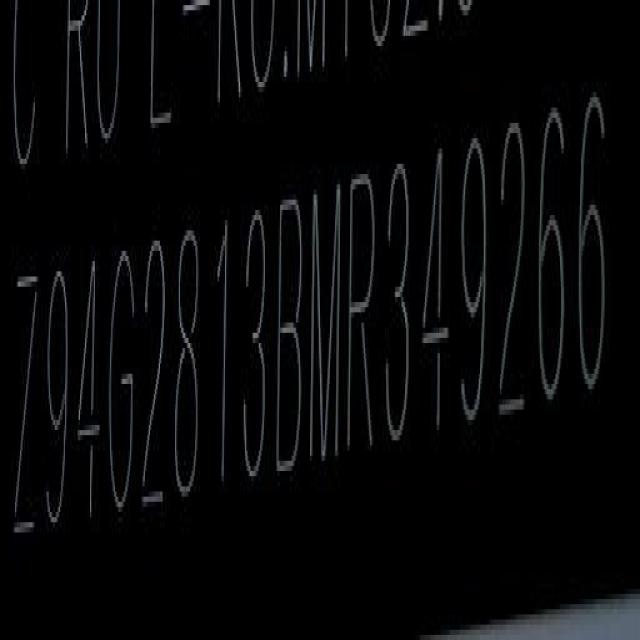1: (215, 208, 232, 497)
2: (496, 108, 528, 421), (142, 237, 168, 521)
3: (242, 201, 268, 482), (386, 154, 410, 446)
4: (421, 142, 448, 438), (74, 258, 103, 525)
6: (574, 91, 609, 402), (537, 98, 569, 404)
8: (172, 216, 205, 506)
9: (460, 125, 488, 436), (44, 267, 70, 533)
B: (274, 190, 306, 489)
G: (105, 241, 136, 519)
M: (308, 174, 343, 466)
R: (348, 167, 376, 447)
Z: (13, 266, 37, 538)
